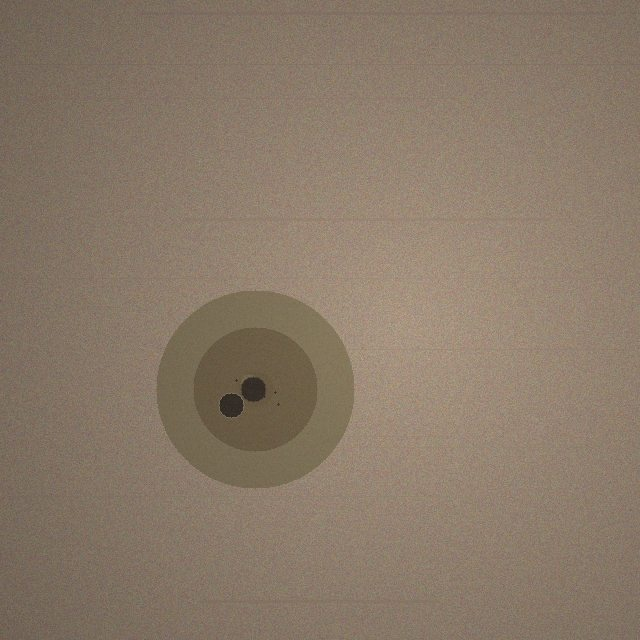shrinkage: (156, 290, 354, 488)
